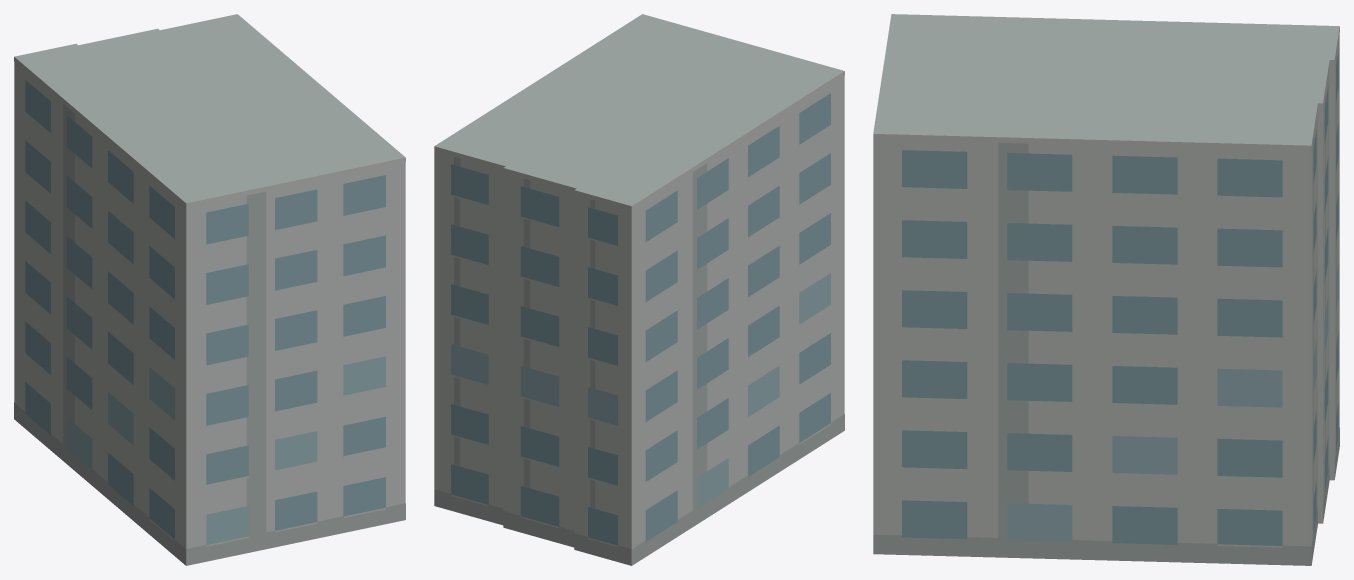
File: survey-upis-32821806.glb
3 views of the same model, side by side, from view 1: azimuth 30°, elevation 25°; view 2: azimuth 150°, elevation 25°; view 3: azimuth 270°, elevation 25° (orthographic). The views are drawn at different scales.
Parts seen in each view (by area): view 1: survey-upis-32821806.tmp; view 2: survey-upis-32821806.tmp; view 3: survey-upis-32821806.tmp.
Boxes of the visible parts, x1,y1,x2,y2 form: survey-upis-32821806.tmp: (14,14,405,565); survey-upis-32821806.tmp: (434,14,844,565); survey-upis-32821806.tmp: (873,14,1339,565).
Size of the model in its own units: 12.3 by 18.3 by 18.42.
